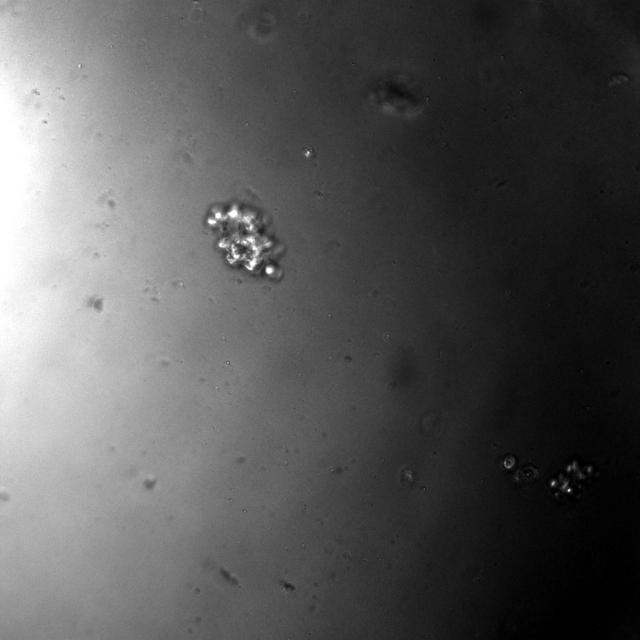organoid: (204, 200, 284, 279), (549, 460, 597, 498), (501, 453, 538, 483)
